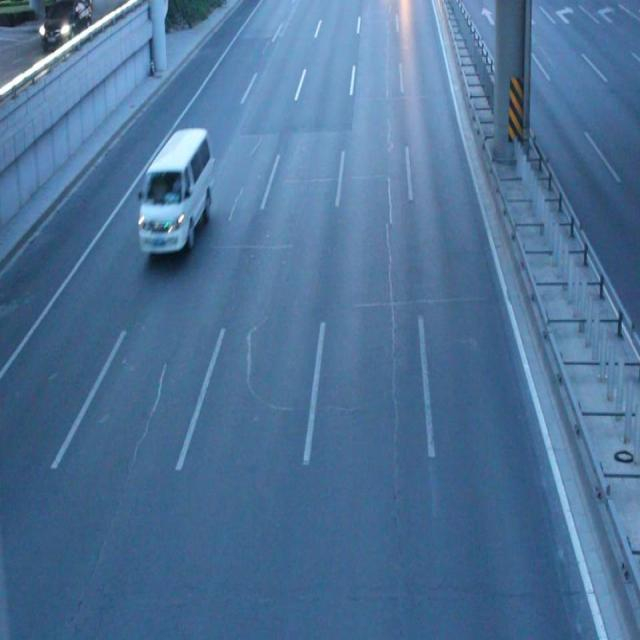truck: (138, 127, 214, 255)
